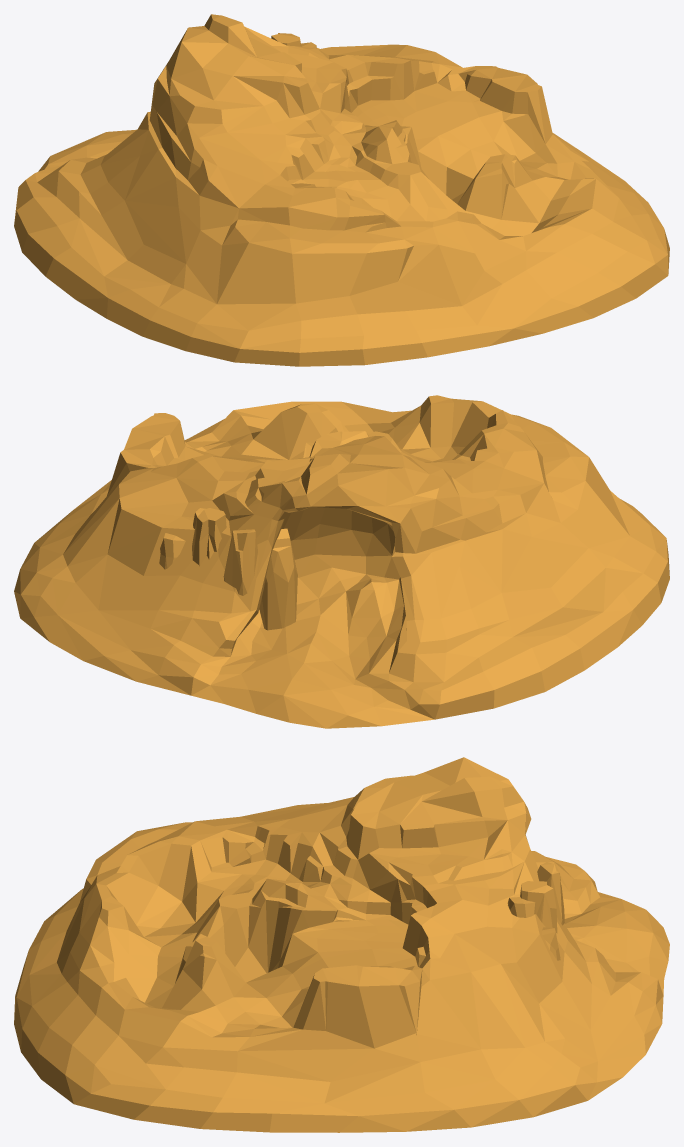
File: island-cave-large.fbx
3 renders of one model, top to bottom at view 1: azimuth 30°, elevation 25°; view 2: azimuth 150°, elevation 25°; view 3: azimuth 270°, elevation 25°, orthographic. The views are drawn at different scales.
Visible parts, largest first — view 1: island-cave-large; view 2: island-cave-large; view 3: island-cave-large.
Part boxes in pixels (left/top/right/bottom): island-cave-large: left=14, top=14, right=669, bottom=366; island-cave-large: left=14, top=395, right=669, bottom=728; island-cave-large: left=14, top=757, right=669, bottom=1132.
Size of the model in its own units: 270 by 88.01 by 273.
